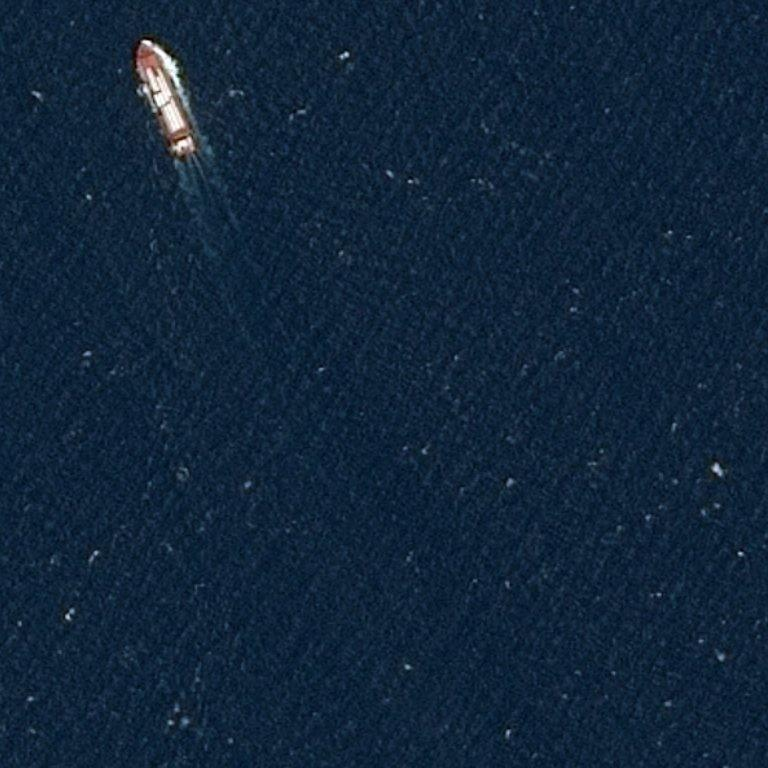ship: (125, 0, 194, 47), (192, 139, 199, 148), (0, 146, 7, 155), (138, 43, 146, 50)
